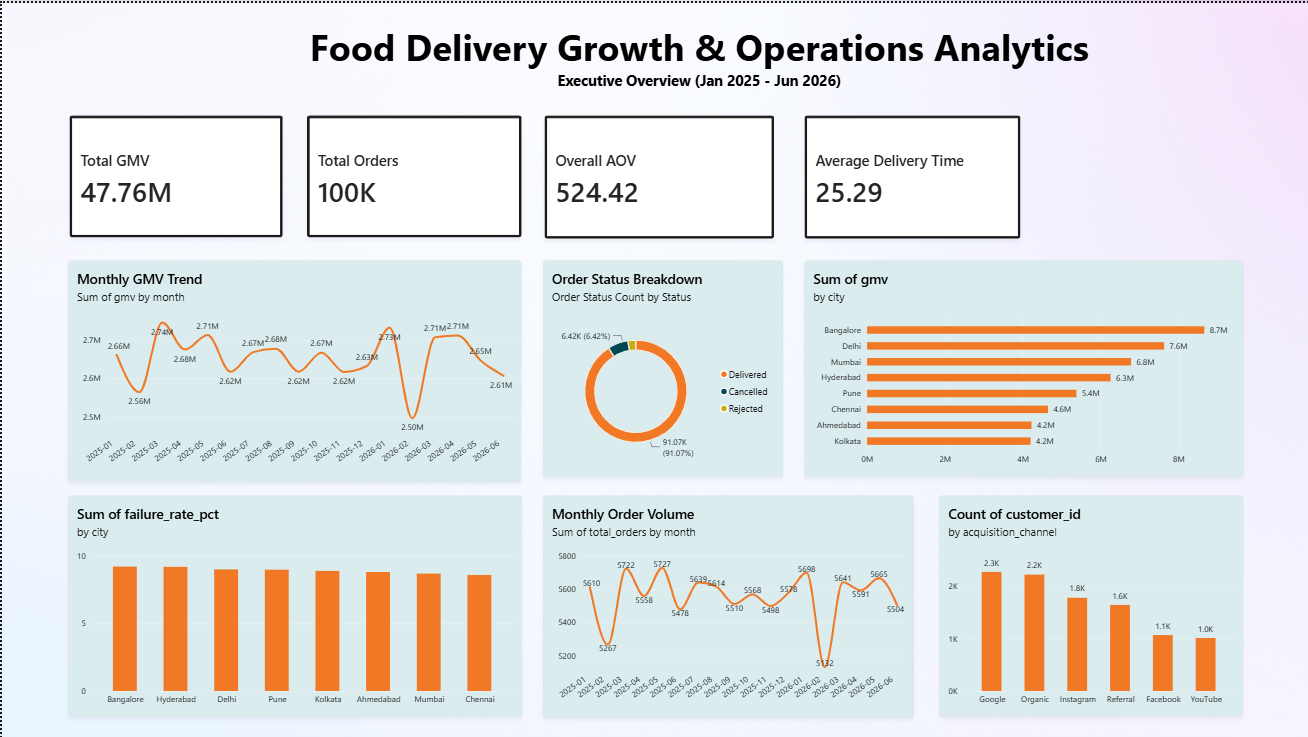

The page's visual inventory and layout, read from the dashboard file:
{"tool":"powerbi","page":{"name":"Executive Overview","canvas":[1920,1080],"ordinal":0},"visuals":[{"type":"textbox","box":[197.3,27.1,1650.4,117.6],"z":0},{"type":"cardVisual","fields":{"Data":["Sum(food_delivery_analytics vw_monthly_performance.gmv)"]},"box":[99,165.1,313.7,179.8],"z":1000},{"type":"cardVisual","fields":{"Data":["Sum(food_delivery_analytics vw_monthly_performance.total_orders)"]},"box":[447.6,165.1,315.5,179.8],"z":2000},{"type":"cardVisual","fields":{"Data":["food_delivery_analytics vw_city_performance.Overall AOV"]},"box":[796.1,165.1,337.5,181.6],"z":3000},{"type":"cardVisual","fields":{"Data":["food_delivery_analytics vw_city_performance.Average Delivery Time"]},"box":[1177.6,165.1,317.3,181.6],"z":4000},{"type":"lineChart","title":"Monthly GMV Trend","fields":{"Category":["food_delivery_analytics vw_monthly_performance.month"],"Y":["Sum(food_delivery_analytics vw_monthly_performance.gmv)"]},"box":[97.5,377.5,665,325],"z":5000},{"type":"donutChart","title":"Order Status Breakdown","fields":{"Category":["Order Status.Status"],"Y":["Order Status.Order Status Count"]},"box":[794.2,377.9,352.2,317.3],"z":6000},{"type":"clusteredBarChart","fields":{"Category":["food_delivery_analytics vw_city_performance.city"],"Y":["Sum(food_delivery_analytics vw_city_performance.gmv)"]},"box":[1177.6,377.9,643.8,317.3],"z":7000},{"type":"clusteredColumnChart","fields":{"Category":["food_delivery_analytics vw_city_performance.city"],"Y":["Sum(food_delivery_analytics vw_city_performance.failure_rate_pct)"]},"box":[97.2,722.7,665.8,324.7],"z":8000},{"type":"lineChart","title":"Monthly Order Volume","fields":{"Category":["food_delivery_analytics vw_monthly_performance.month"],"Y":["Sum(food_delivery_analytics vw_monthly_performance.total_orders)"]},"box":[794.2,722.7,542.9,326.5],"z":9000},{"type":"clusteredColumnChart","fields":{"Category":["food_delivery_analytics vw_customer_metrics.acquisition_channel"],"Y":["CountNonNull(food_delivery_analytics vw_customer_metrics.customer_id)"]},"box":[1375.7,722.7,445.7,324.7],"z":10000}]}

Visuals, with their boxes in screenshot pixels (x1, y1, x2, y2), scaled from the page's 1920x1080 canvas onto the 1308x737 screenshot:
textbox: x1=134, y1=18, x2=1259, y2=99
cardVisual - Sum(food_delivery_analytics vw_monthly_performance.gmv): x1=67, y1=113, x2=281, y2=235
cardVisual - Sum(food_delivery_analytics vw_monthly_performance.total_orders): x1=305, y1=113, x2=520, y2=235
cardVisual - food_delivery_analytics vw_city_performance.Overall AOV: x1=542, y1=113, x2=772, y2=237
cardVisual - food_delivery_analytics vw_city_performance.Average Delivery Time: x1=802, y1=113, x2=1018, y2=237
"Monthly GMV Trend" lineChart: x1=66, y1=258, x2=519, y2=479
"Order Status Breakdown" donutChart: x1=541, y1=258, x2=781, y2=474
clusteredBarChart - food_delivery_analytics vw_city_performance.city x Sum(food_delivery_analytics vw_city_performance.gmv): x1=802, y1=258, x2=1241, y2=474
clusteredColumnChart - food_delivery_analytics vw_city_performance.city x Sum(food_delivery_analytics vw_city_performance.failure_rate_pct): x1=66, y1=493, x2=520, y2=715
"Monthly Order Volume" lineChart: x1=541, y1=493, x2=911, y2=716
clusteredColumnChart - food_delivery_analytics vw_customer_metrics.acquisition_channel x CountNonNull(food_delivery_analytics vw_customer_metrics.customer_id): x1=937, y1=493, x2=1241, y2=715
